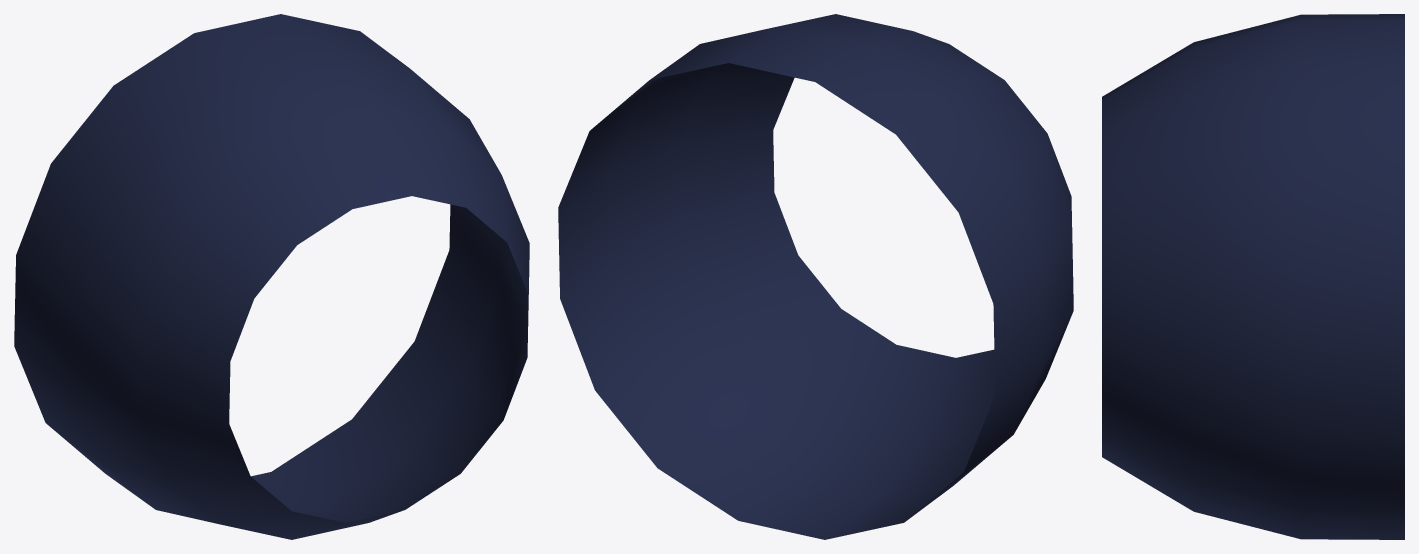
3 renders of one model, left to right at view 1: azimuth 30°, elevation 25°; view 2: azimuth 150°, elevation 25°; view 3: azimuth 270°, elevation 25°, orthographic. The views are drawn at different scales.
Bounding box in the file's own units: 0.2905 × 0.2905 × 0.1683.
